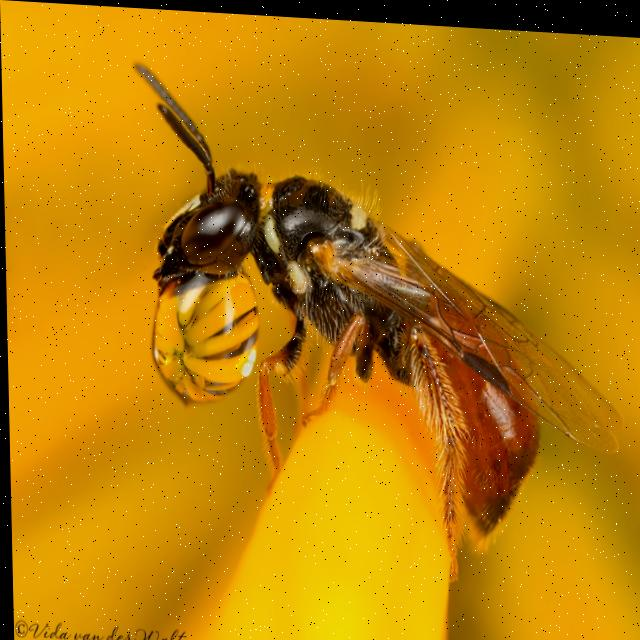Allodapula: (123, 43, 618, 583)
